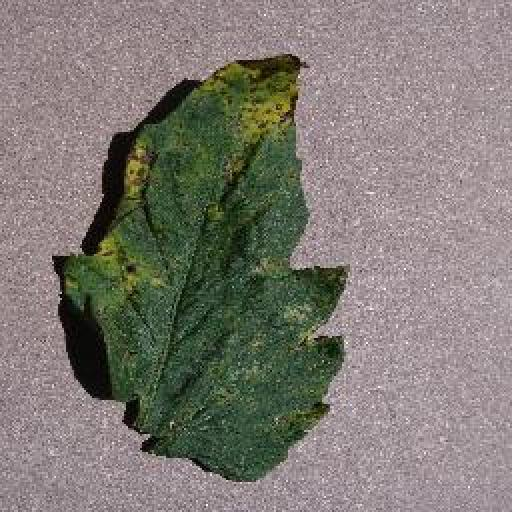disease_tomato: (62, 56, 349, 485)
